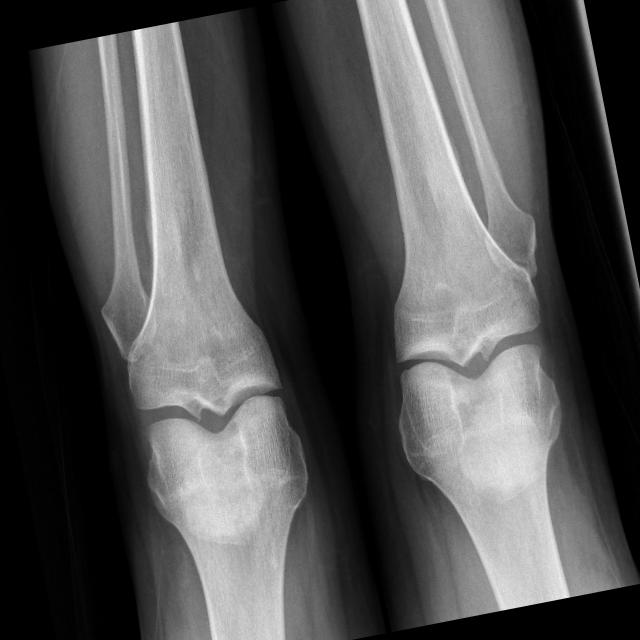Knee: (374, 270, 576, 496)
